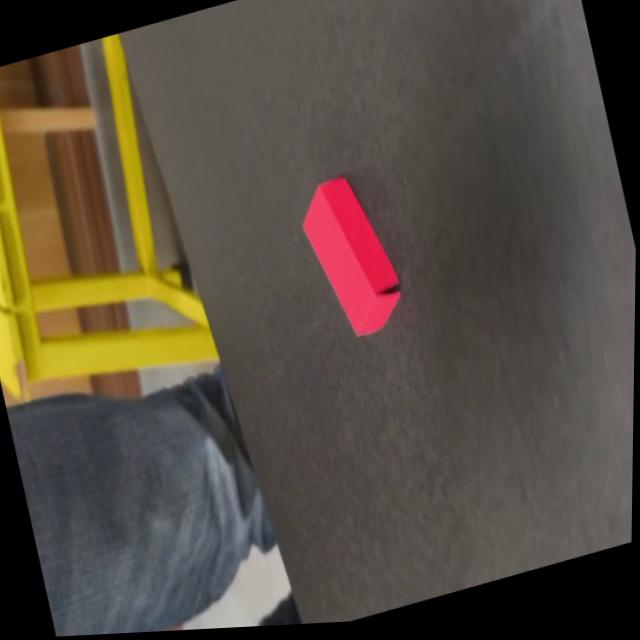red block: (290, 162, 411, 350)
